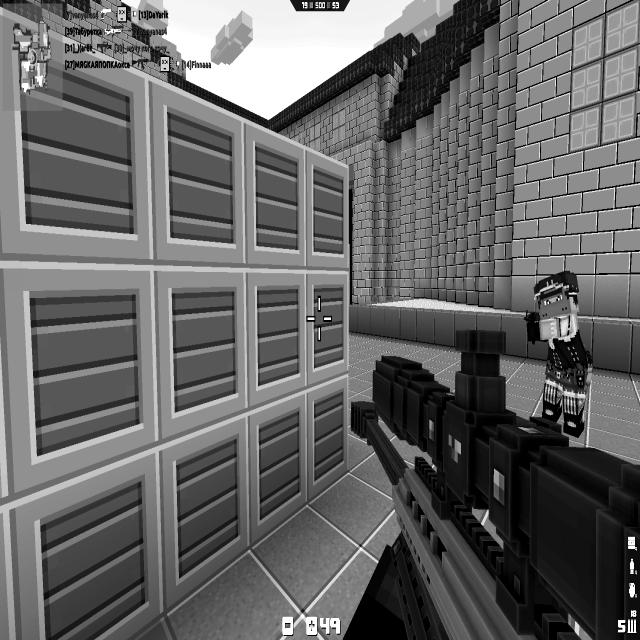Head: (534, 270, 580, 341)
Player: (524, 269, 594, 438)
